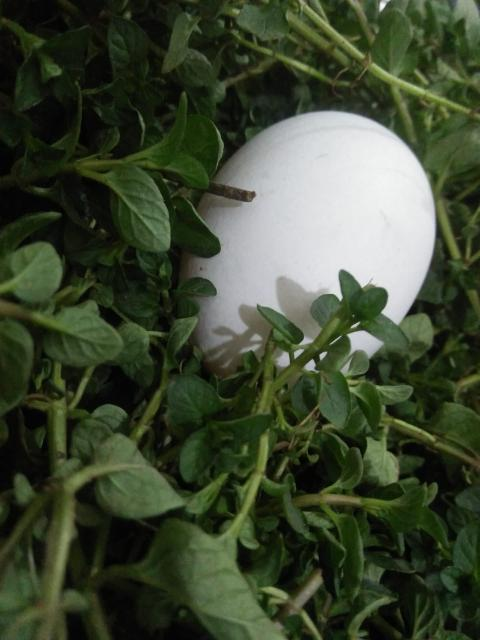Sano: (185, 109, 436, 383)
